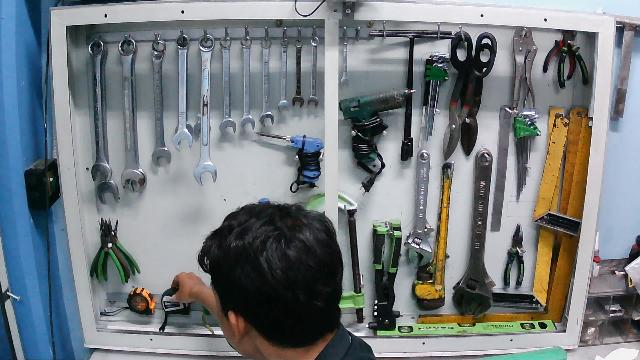meteran: (157, 271, 197, 334)
